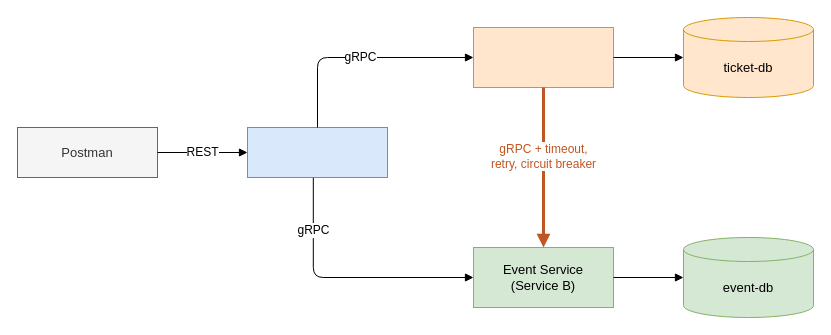
The diagram is 831 pixels wide and 335 high, and some of its shapes have lost their labels. Here are the shapes that lost their labels. From the top down, the box of each, then its label:
(472, 26, 614, 88): Ticket Service (Service A)
(246, 126, 388, 178): API Gateway
